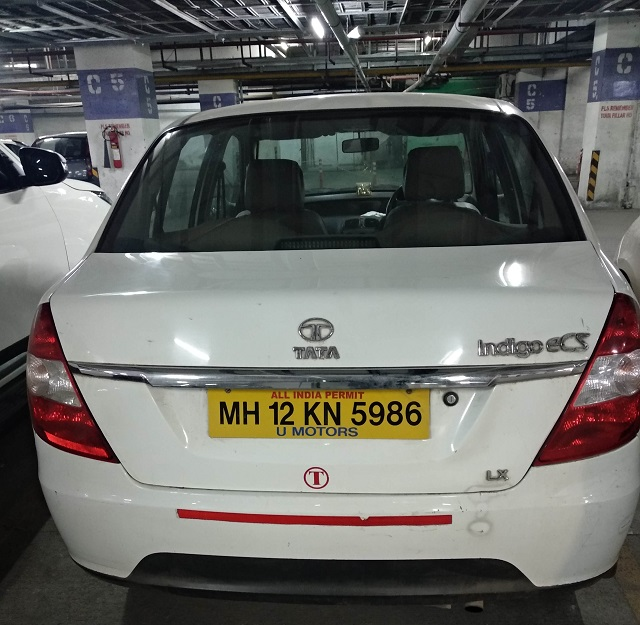licenseplate: (207, 384, 433, 442)
